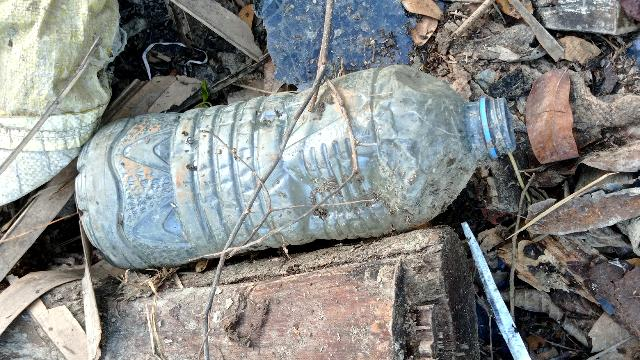bottle: (67, 72, 530, 272)
